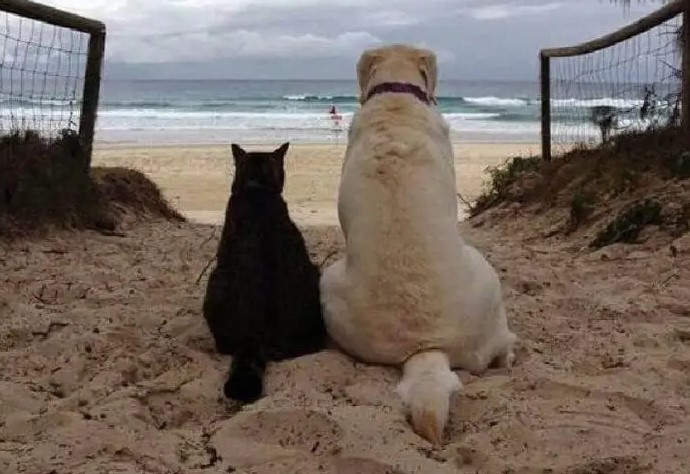cat: (202, 141, 330, 402)
dog: (319, 43, 517, 444)
